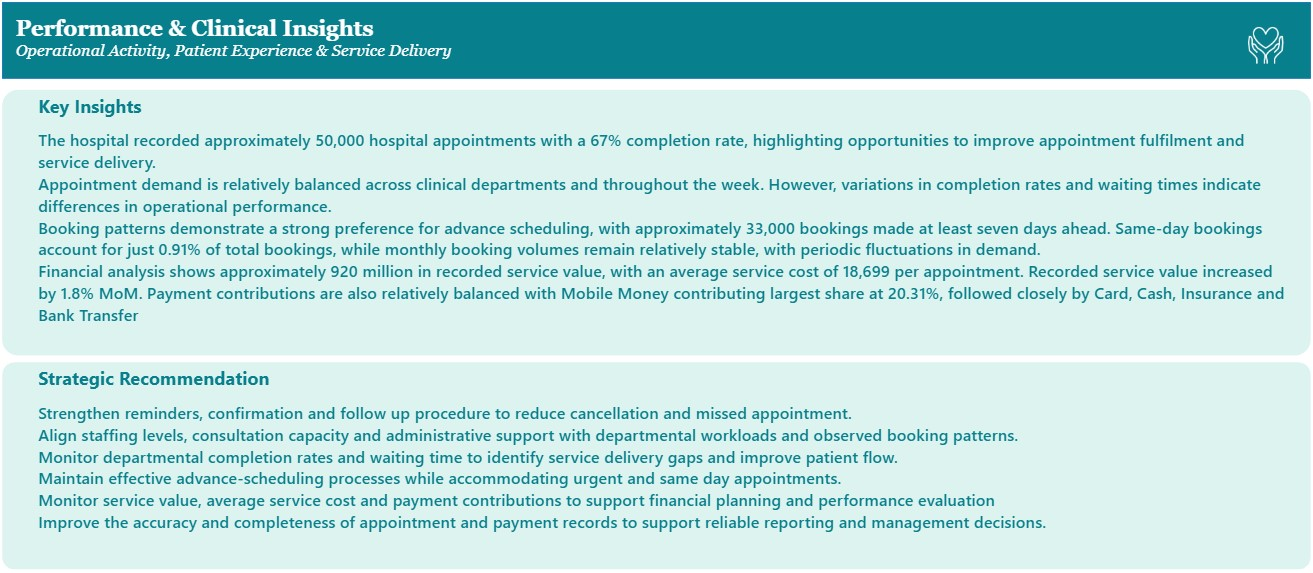

This screenshot's page, from the dashboard's own definition file:
{"tool":"powerbi","page":{"name":"Insight","canvas":[1950,1080],"ordinal":3},"visuals":[{"type":"shape","box":[16,16,1920,112],"z":0},{"type":"textbox","box":[32,32,816,80],"z":1000},{"type":"image","box":[1831,48,80,64],"z":2000},{"type":"shape","box":[16,144,1920,390],"z":3000},{"type":"shape","box":[16,544,1920,304],"z":4000},{"type":"textbox","box":[64,144,1840,386],"z":5000},{"type":"textbox","box":[64,544,1840,304],"z":6000}]}

Visuals, with their boxes on the page's 1950x1080 design canvas (x1, y1, x2, y2). These are canvas units, not pixel positions in the 1313x573 screenshot, which may show the page scaled, cropped or inside an application window:
shape: detection(16, 16, 1936, 128)
textbox: detection(32, 32, 848, 112)
image: detection(1831, 48, 1911, 112)
shape: detection(16, 144, 1936, 534)
shape: detection(16, 544, 1936, 848)
textbox: detection(64, 144, 1904, 530)
textbox: detection(64, 544, 1904, 848)
